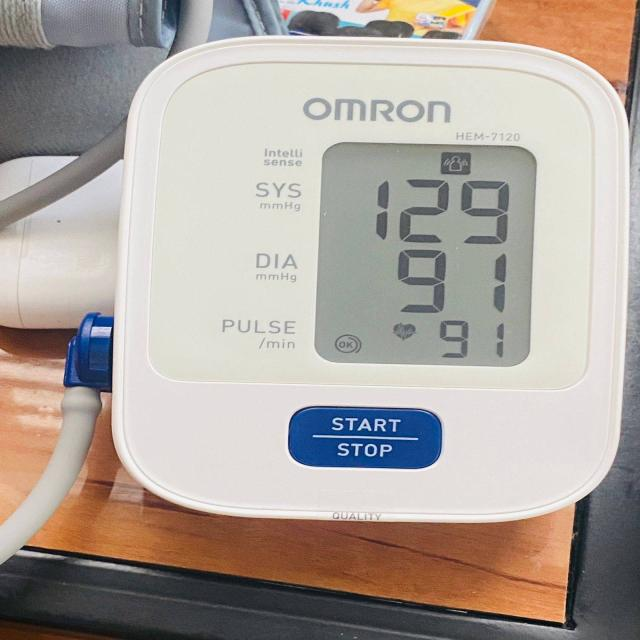bp: (110, 36, 631, 528)
